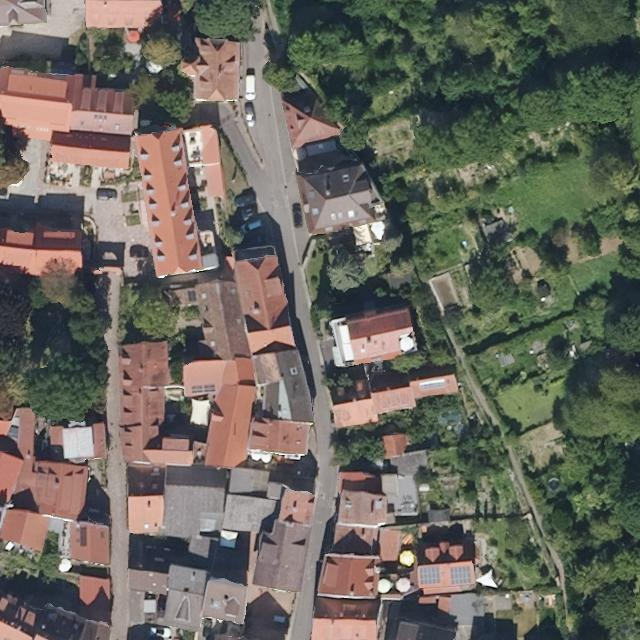PV: (448, 564, 473, 587), (418, 564, 442, 587), (189, 382, 217, 396)
